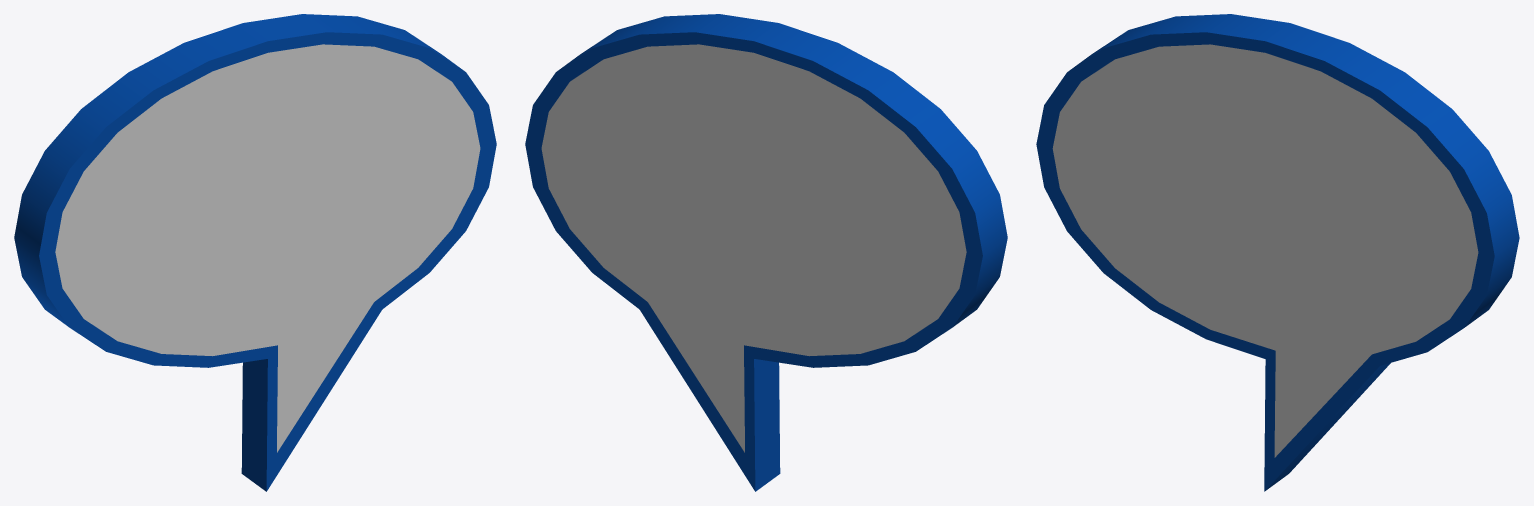
Rendered from Balloon.fbx.
The picture shows the model from 3 angles, left to right: view 1: azimuth 30°, elevation 25°; view 2: azimuth 150°, elevation 25°; view 3: azimuth 330°, elevation 25°; orthographic projection.
Parts seen in each view (by area): view 1: cylinder; view 2: cylinder; view 3: cylinder.
Boxes of the visible parts, x1,y1,x2,y2 form: cylinder: (14, 14, 496, 491); cylinder: (525, 14, 1007, 491); cylinder: (1036, 14, 1519, 491).
Size of the model in its own units: 1.26 by 1.19 by 0.1187.
